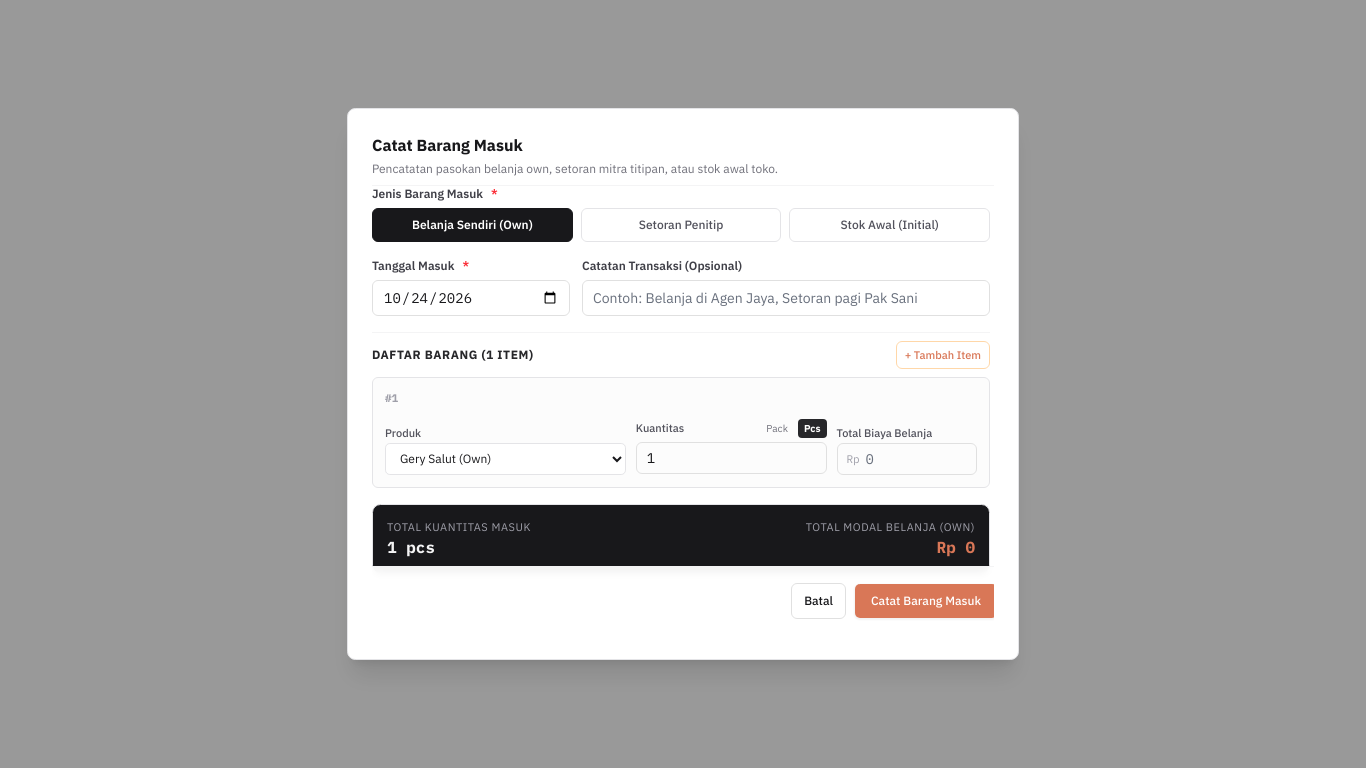
Test: Barang Masuk & Retur Frontend › StockInDialog › disables cost input for consignor products and shows Rp 0
// Switch type to "Setoran Penitip"
Click the button "Setoran Penitip": click(681, 225) [581, 208, 781, 242]
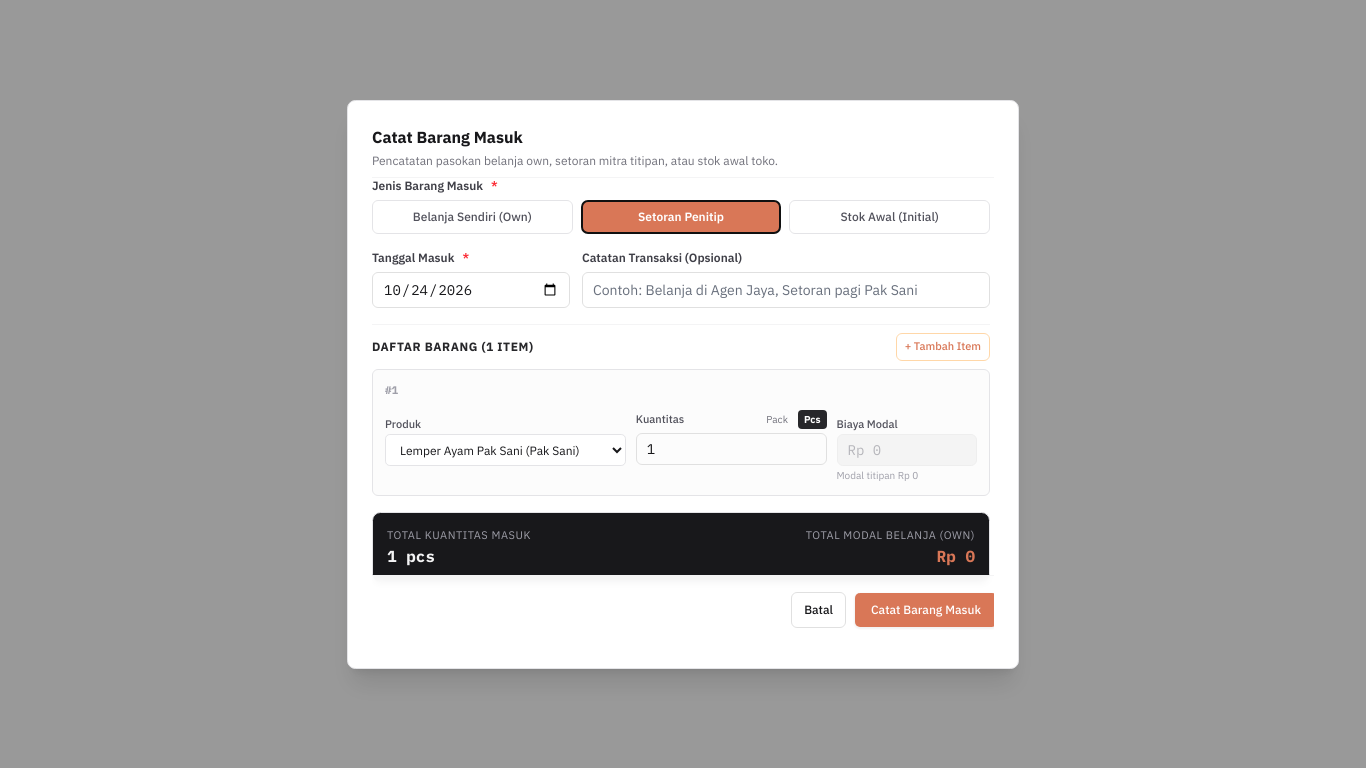
Result: the field showing "Rp 0" is disabled at [836, 434, 977, 466]
Result: the text "Modal titipan Rp 0" is shown at [836, 469, 918, 482]
